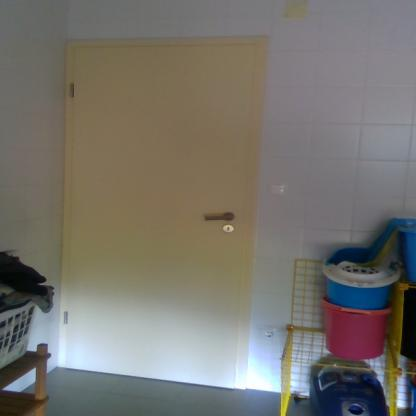door: (71, 48, 244, 387)
hinged: (68, 82, 76, 98), (63, 310, 68, 326)
lever: (201, 212, 237, 222)
